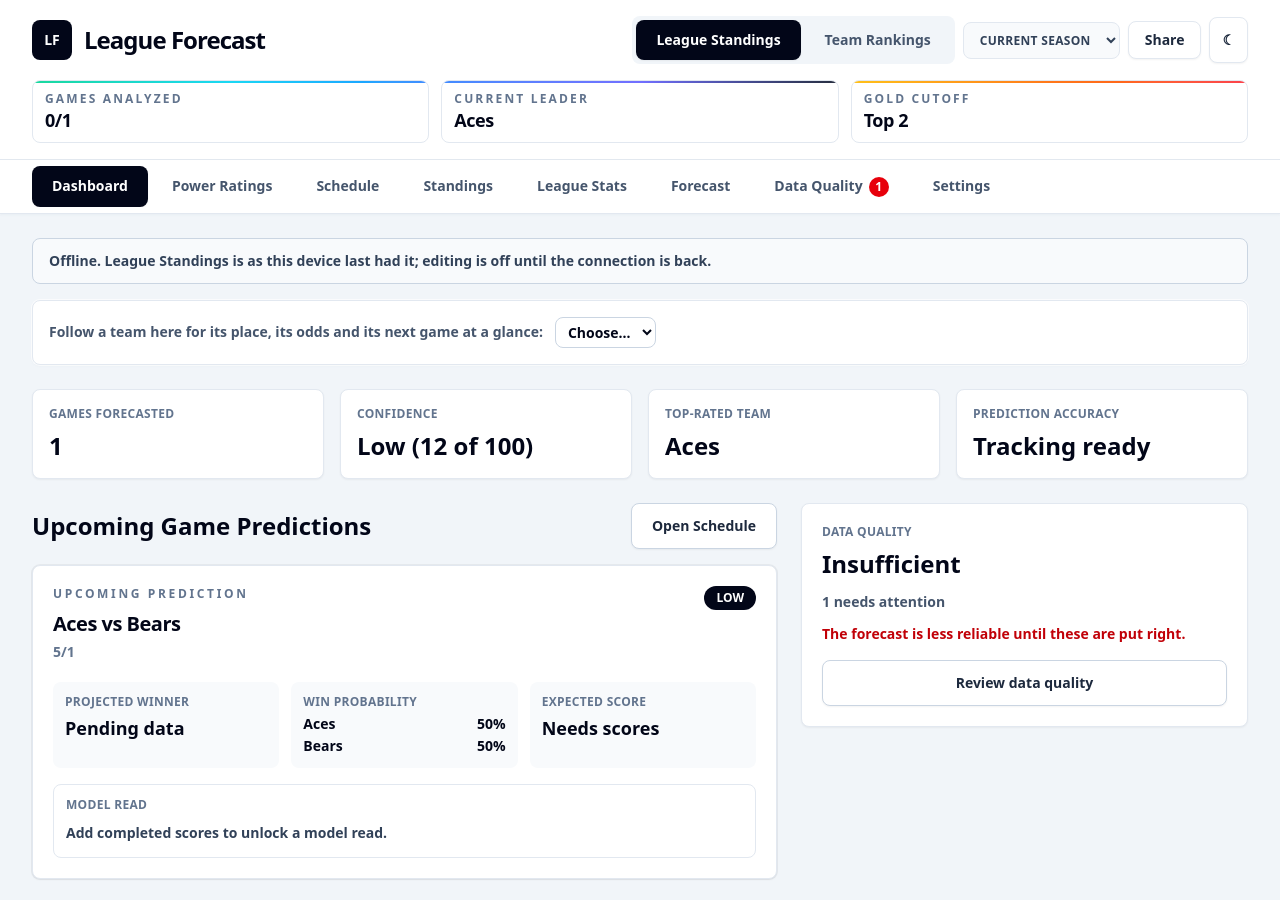
Test: League Standings kept live, on the page › refuses a delete while offline, with no cloud to delete it from
Click the tab "Settings". click: (961, 186)
box: [913,166,1010,206]
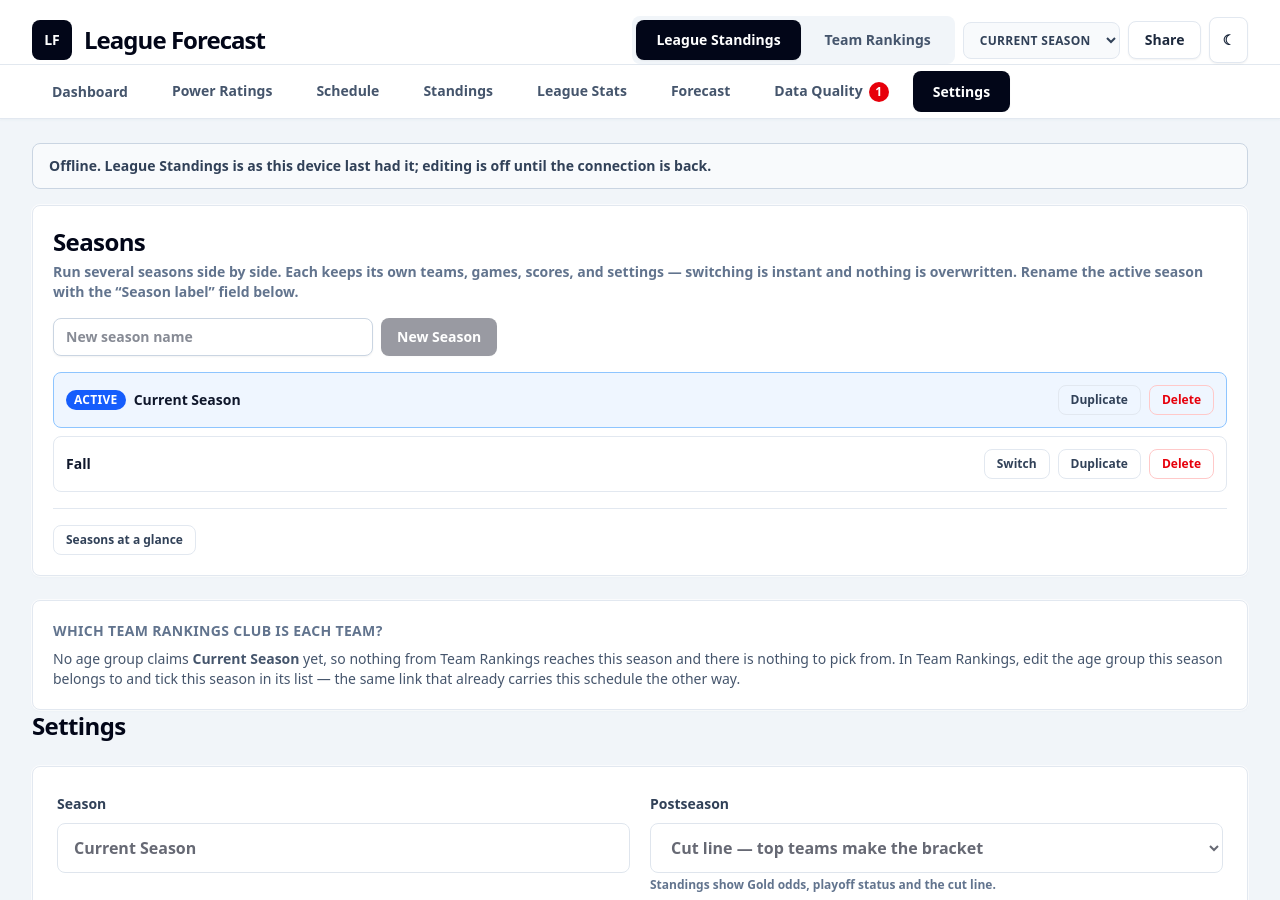
Click the button "Delete" in the row of "Fall". click: (1182, 464)
box: [1149,449,1214,479]
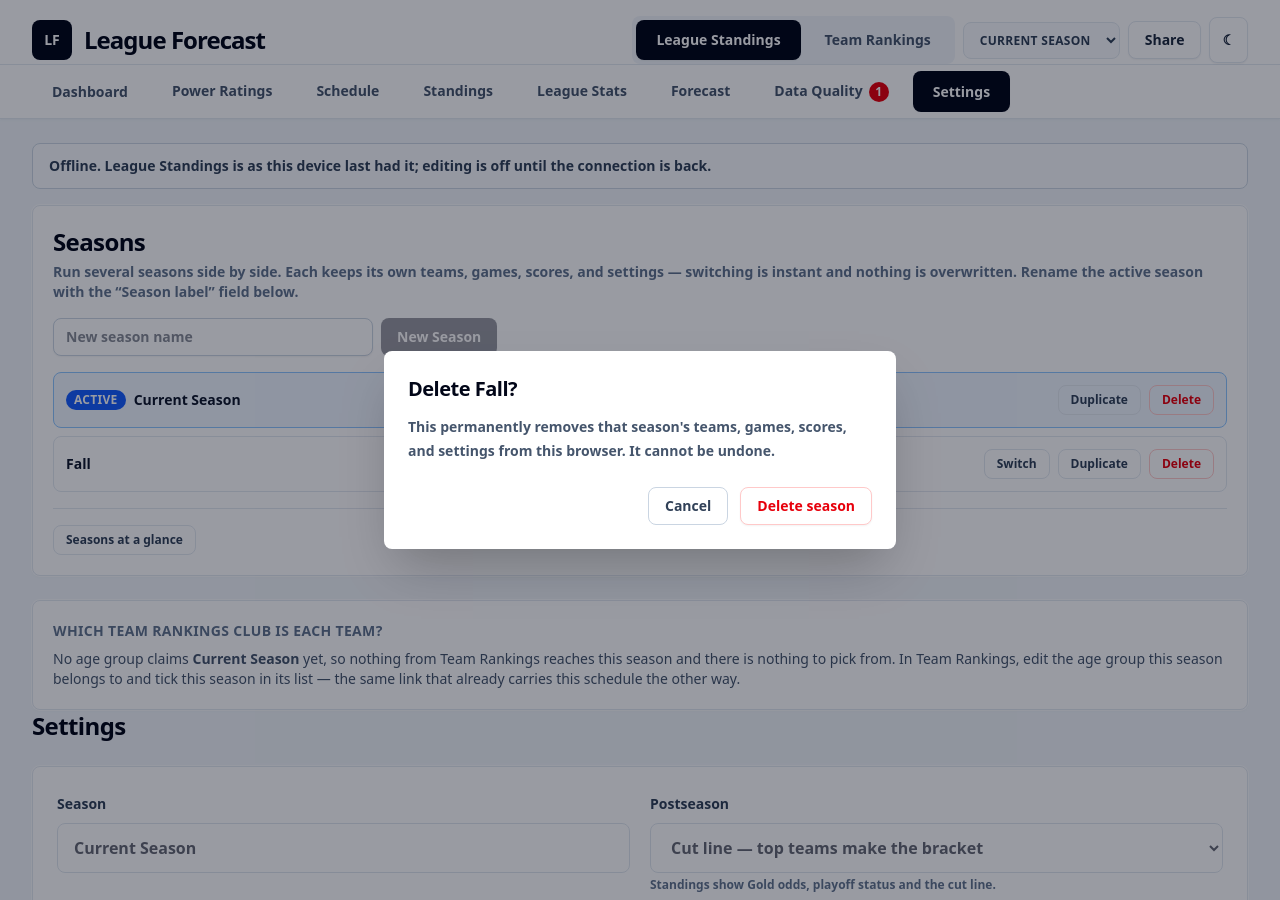
Click the button "Delete season". click: (806, 506)
box: [740,487,872,525]
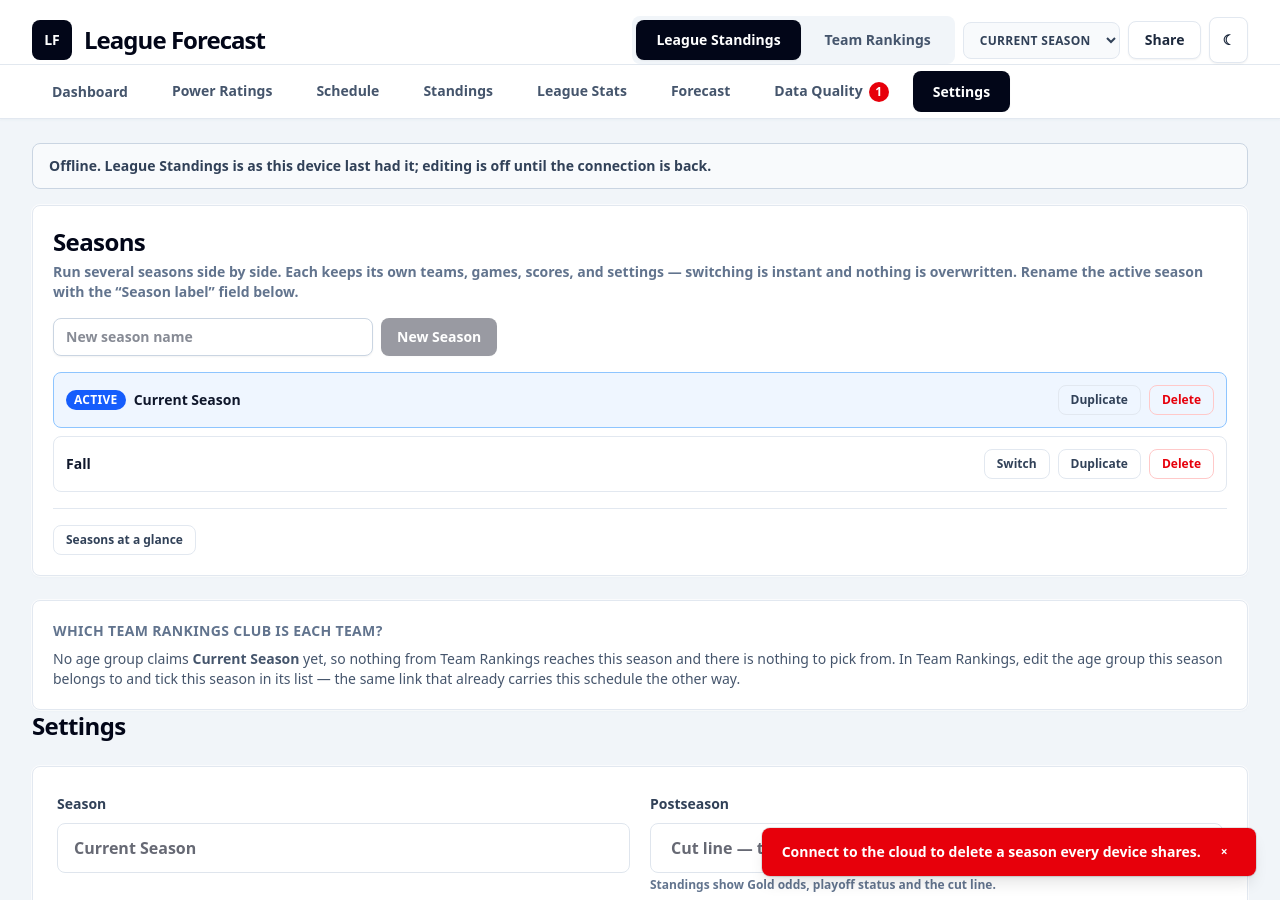
Now the text "Connect to the cloud to delete a season every device shares." is shown, box [782,842,1201,862]
